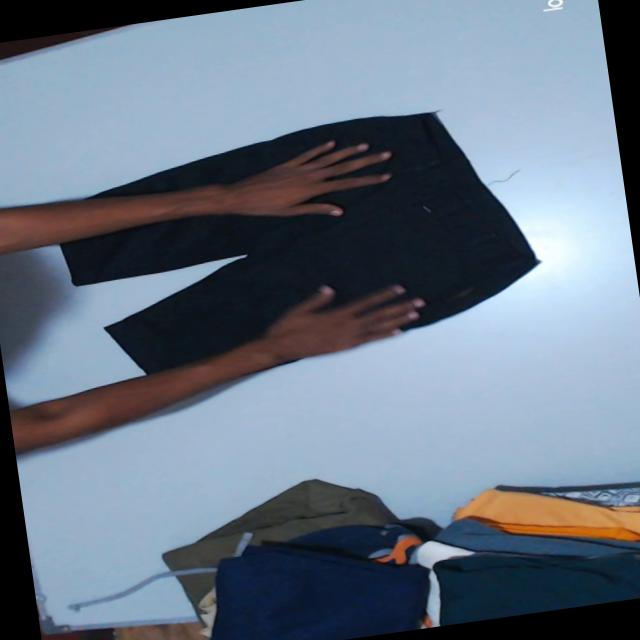new-garment: (60, 112, 537, 372)
